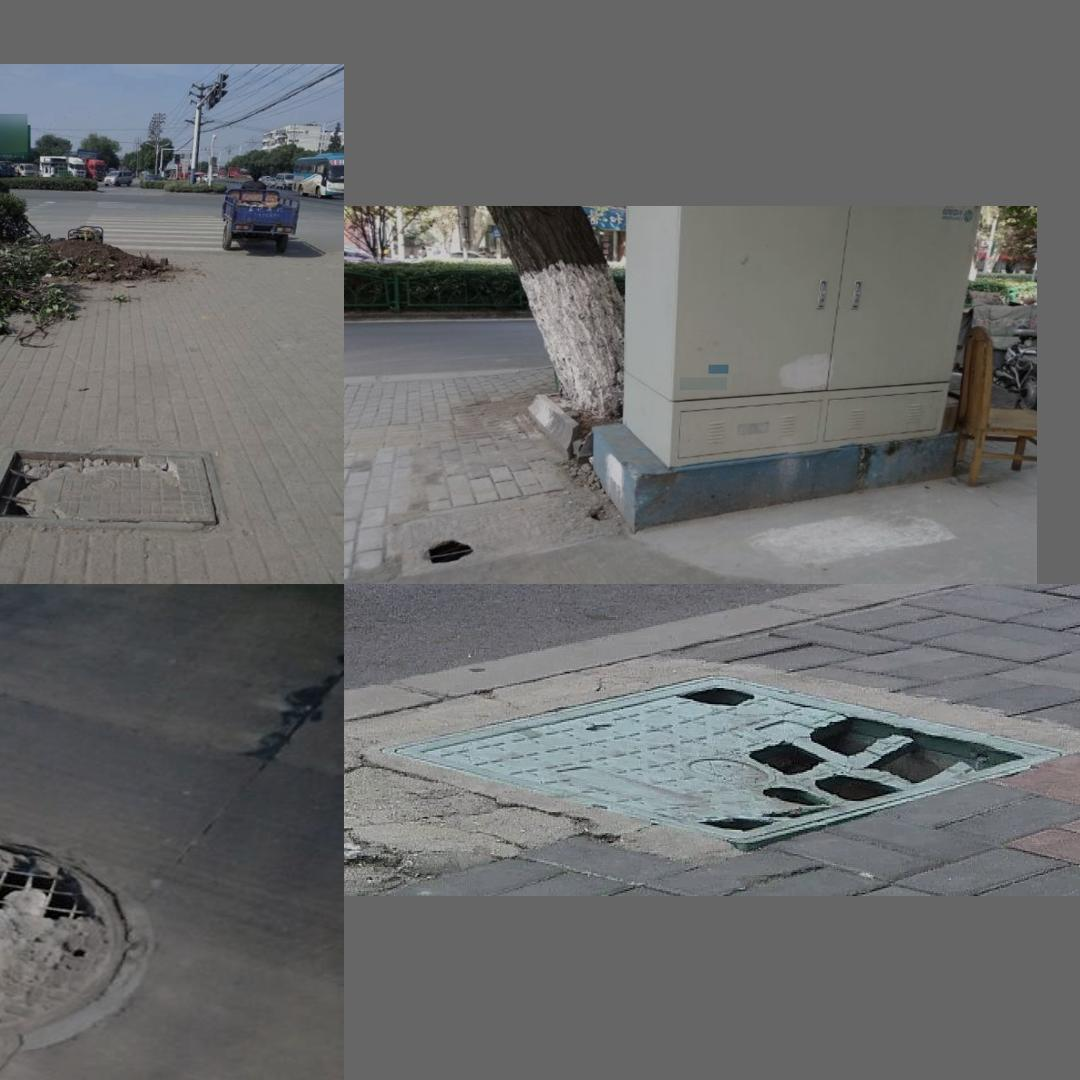broke: (382, 660, 1067, 853), (0, 819, 159, 1053), (391, 481, 614, 577), (0, 445, 230, 533)
